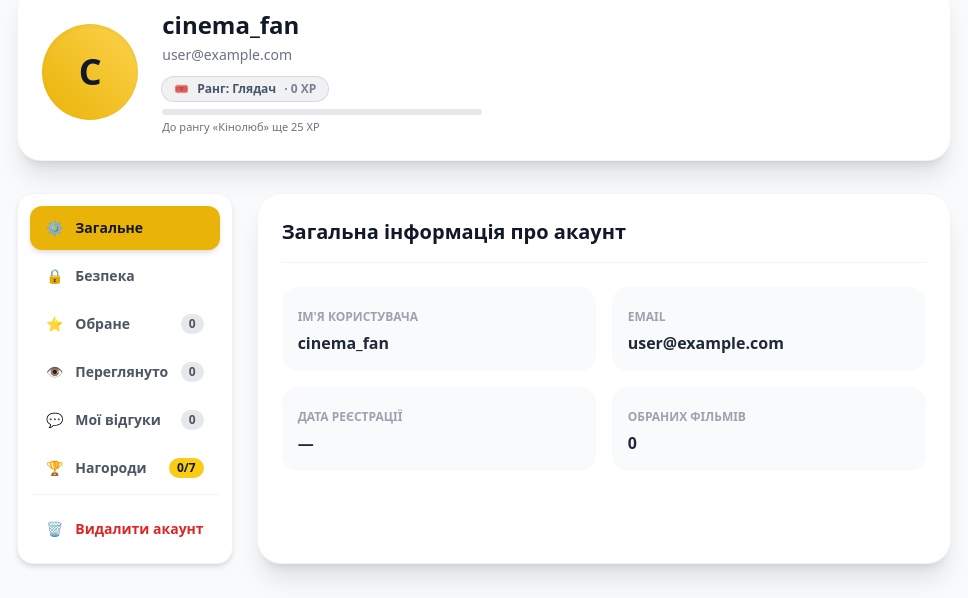
Scenario: UserProfile account settings › keeps the account and explains why when the server refuses
Click the button "🗑️ Видалити акаунт".
click(125, 528)  # box [30,506,220,550]
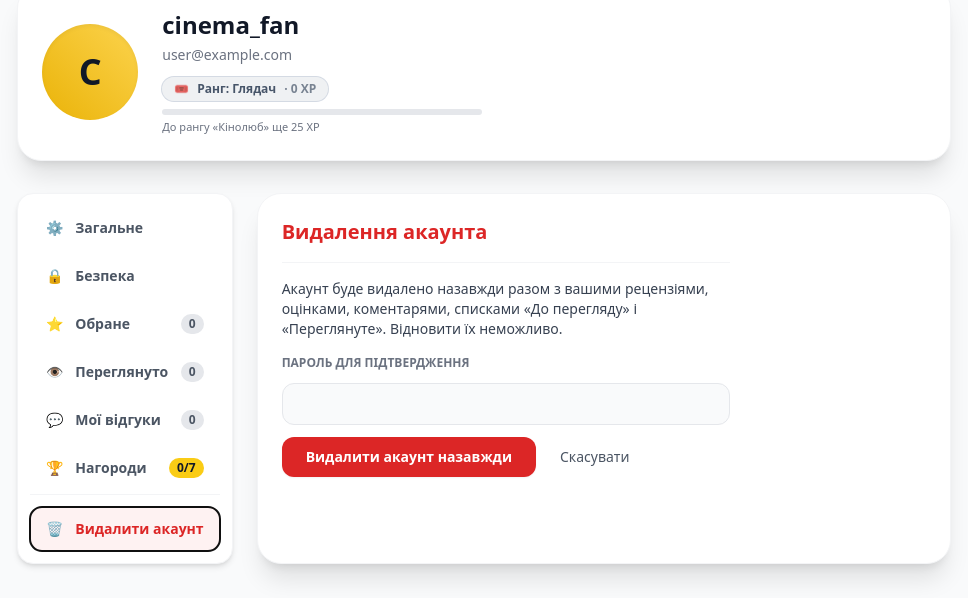
Type "MyPass123" into the password field labelled "Пароль для підтвердження".
click(506, 404); type("MyPass123")  # box [282,382,730,424]
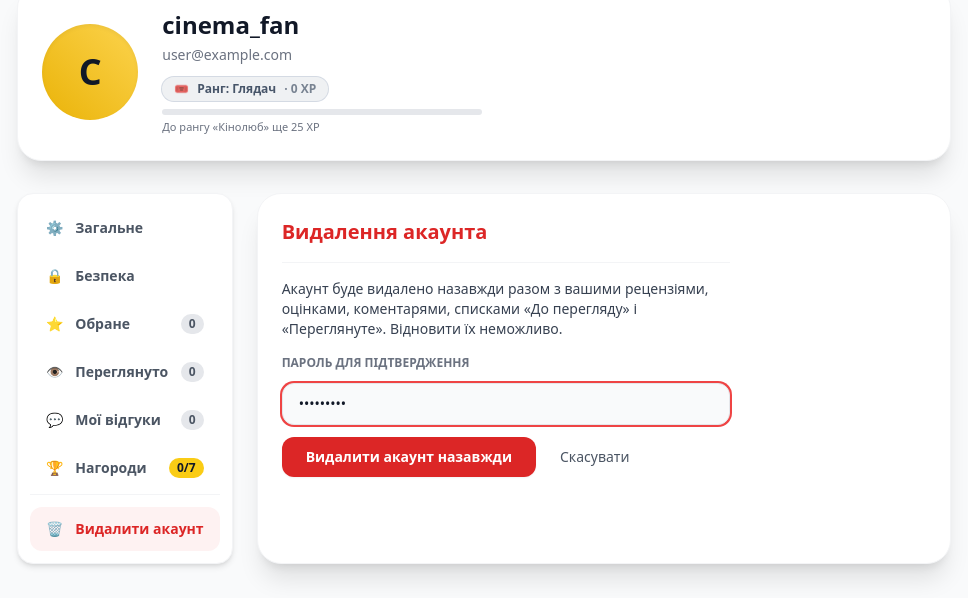
Click the button "Видалити акаунт назавжди".
click(409, 456)  # box [282,436,536,476]
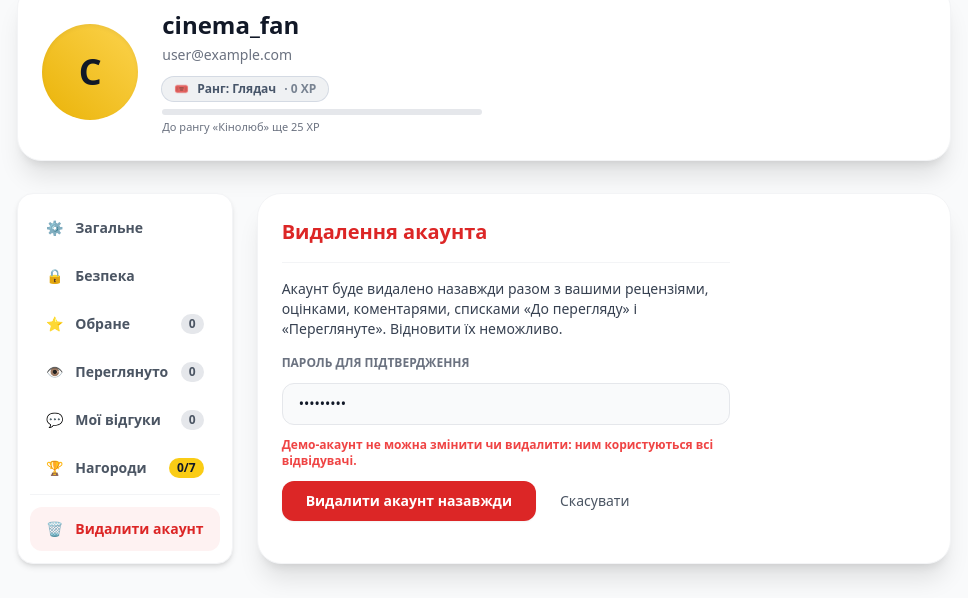
Check: the message shows "Демо-акаунт не можна змінити чи видалити", box [282,436,713,468]
